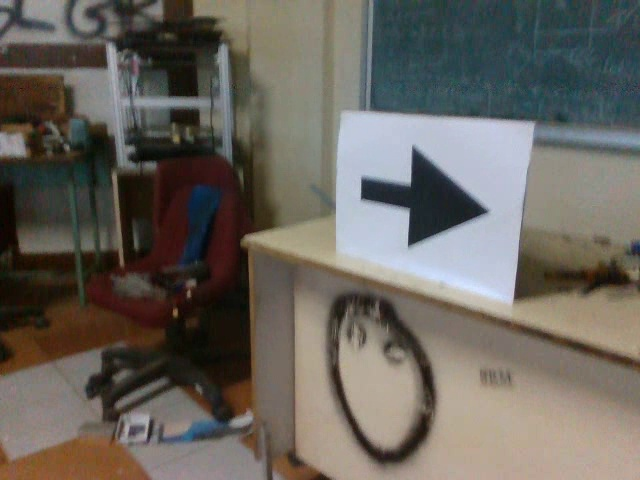Right: (352, 139, 493, 249)
